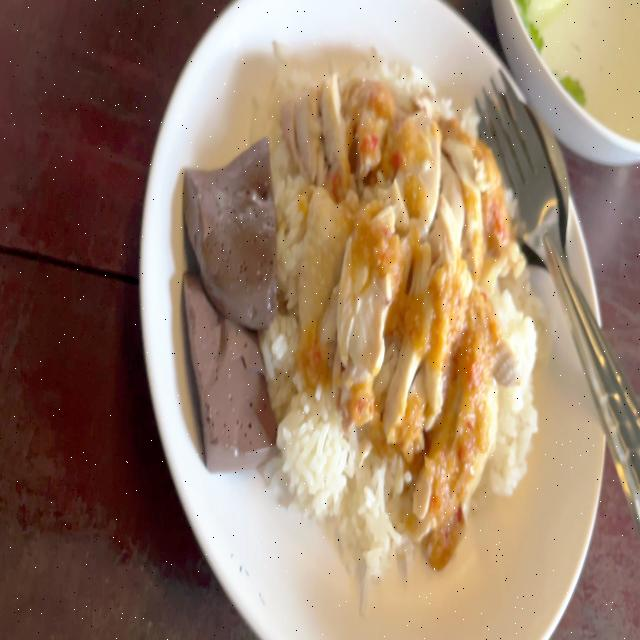boiled_chicken: (292, 99, 502, 453)
boiled_chicken_blood_jelly: (179, 260, 277, 474), (175, 130, 277, 334)
chicken_rice: (182, 46, 543, 612)
